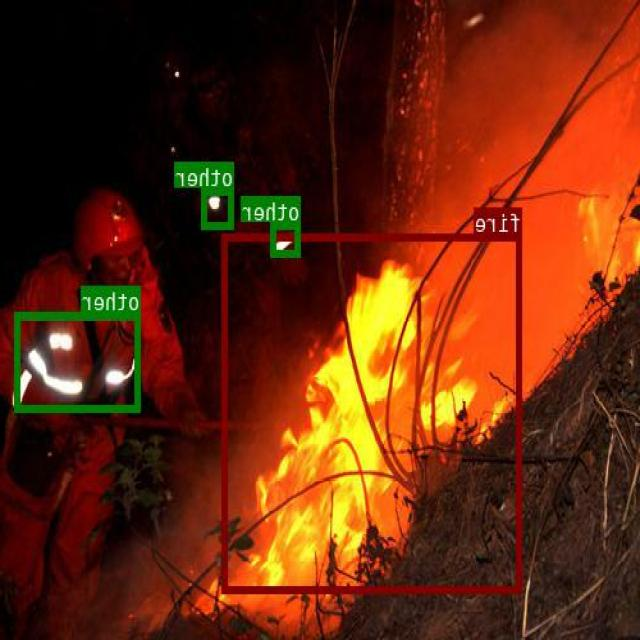fire: (224, 232, 522, 592)
other: (16, 310, 142, 410), (203, 187, 235, 227), (272, 220, 302, 255)
